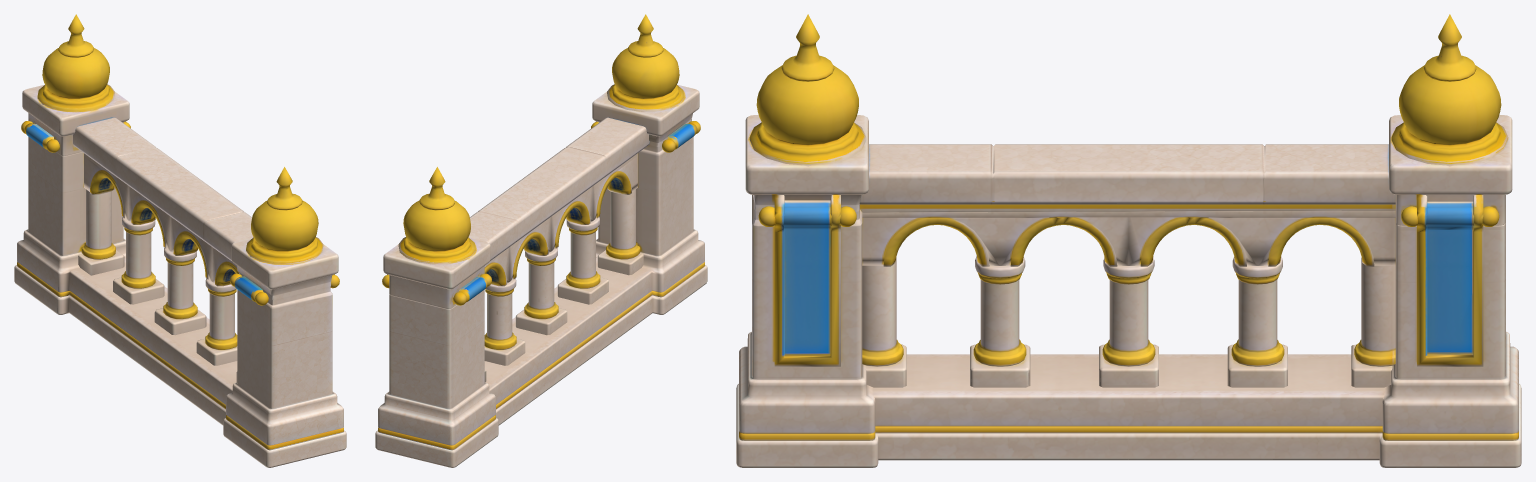
File: HaloVar3_Balustrade_E_SM_tex4k_pbr_src.fbx
3 views of the same model, side by side, from view 1: azimuth 30°, elevation 25°; view 2: azimuth 150°, elevation 25°; view 3: azimuth 270°, elevation 25° (orthographic). The views are drawn at different scales.
Parts seen in each view (by area): view 1: tripo_969264ac_ee54_4144_9de2_851862c72fe5; view 2: tripo_969264ac_ee54_4144_9de2_851862c72fe5; view 3: tripo_969264ac_ee54_4144_9de2_851862c72fe5.
Part boxes in pixels (<box>): tripo_969264ac_ee54_4144_9de2_851862c72fe5: <box>14,14,346,467</box>; tripo_969264ac_ee54_4144_9de2_851862c72fe5: <box>375,14,707,467</box>; tripo_969264ac_ee54_4144_9de2_851862c72fe5: <box>736,14,1521,467</box>.
Bounding box in the file's own units: 0.188 × 0.5972 × 0.9995.
Materials: 1 (1 with a texture image).
